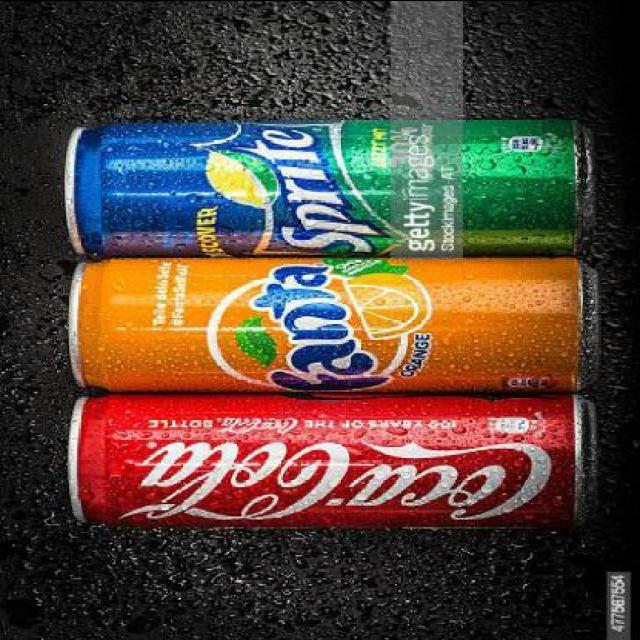Coke: (61, 392, 601, 532)
Fanta: (68, 252, 600, 392)
